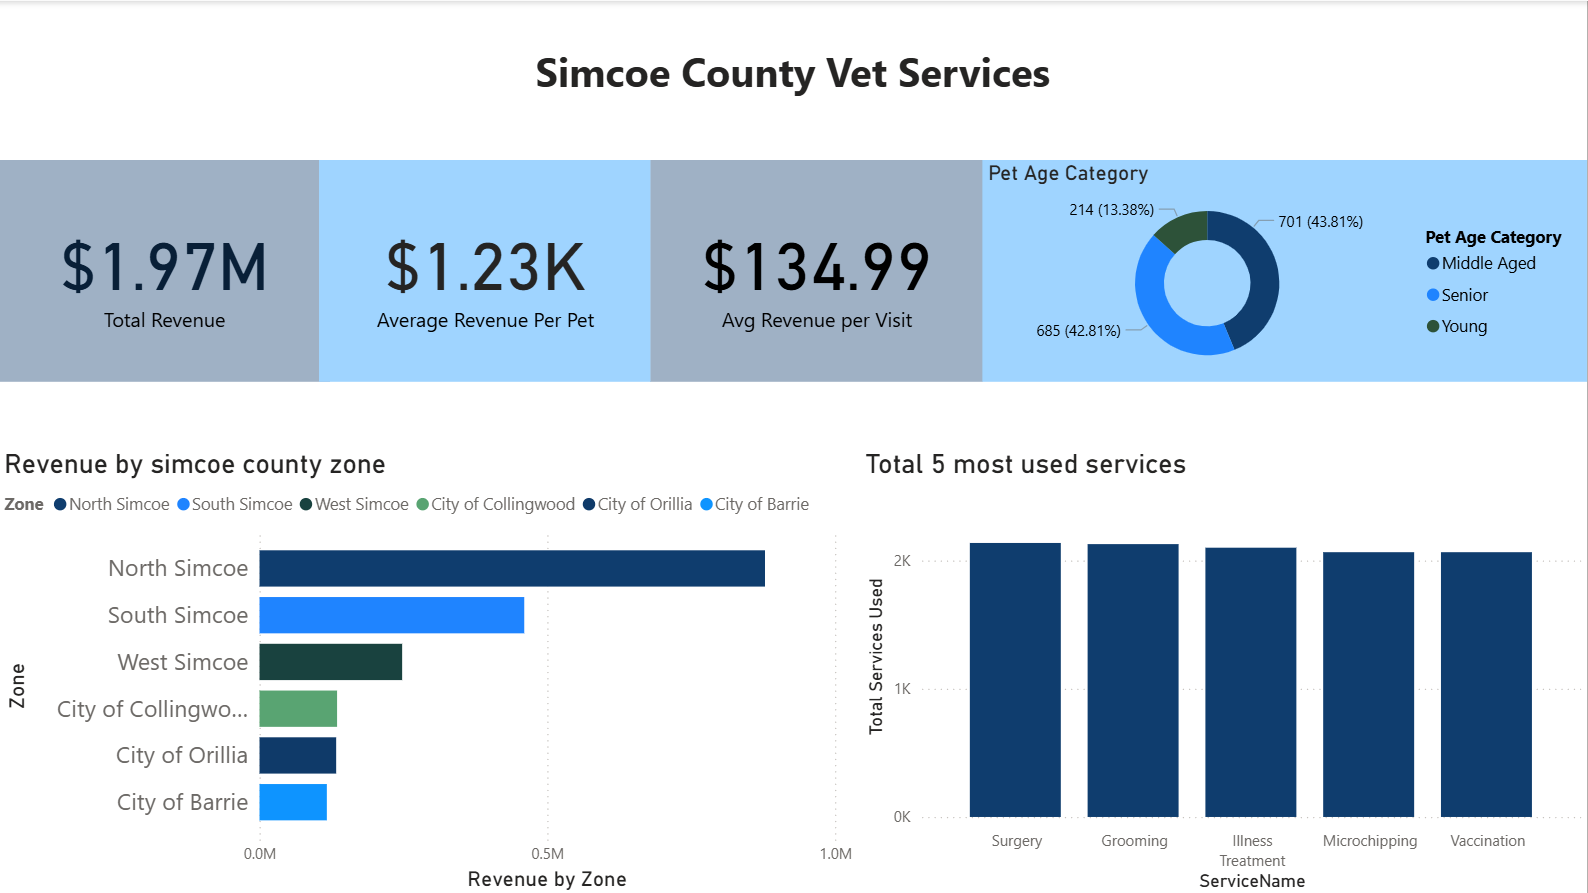

What the dashboard file says about the page in this screenshot:
{"tool":"powerbi","page":{"name":"Page 1","canvas":[1280,720],"ordinal":0},"visuals":[{"type":"donutChart","title":"Pet Age Category","fields":{"Series":["DIM_pet.Pet Age Category"],"Y":["DIM_pet.Total Pets"]},"box":[793.1,127.6,487.1,178.4],"z":0},{"type":"card","fields":{"Values":["FACT_visit.Total Revenue"]},"box":[0,127.6,267.6,178.4],"z":1000},{"type":"barChart","title":"Revenue by simcoe county zone","fields":{"Y":["DIM_pet_owner.Revenue by Zone"],"Series":["ZoneLookup.Zone"],"Category":["ZoneLookup.Zone"]},"box":[0,359.5,693,360.9],"z":2000},{"type":"card","fields":{"Values":["FACT_visit.Average Revenue Per Pet"]},"box":[258,127.6,267.6,178.4],"z":3000},{"type":"columnChart","title":"Total 5 most used services","fields":{"Category":["DIM_service.ServiceName"],"Y":["FACT_visit.Total Services Used"]},"box":[693,359.5,587.3,360.9],"z":5000},{"type":"textbox","box":[0,28.8,1280.3,64.5],"z":6000},{"type":"card","fields":{"Values":["FACT_visit.Avg Revenue per Visit"]},"box":[525.6,127.6,267.6,178.4],"z":8000}]}

Visuals, with their boxes in screenshot pixels (x1, y1, x2, y2), scaled from the page's 1280x720 canvas onto the 1588x893 screenshot:
"Pet Age Category" donutChart: [left=984, top=158, right=1587, bottom=380]
card - FACT_visit.Total Revenue: [left=0, top=158, right=332, bottom=380]
"Revenue by simcoe county zone" barChart: [left=0, top=446, right=860, bottom=892]
card - FACT_visit.Average Revenue Per Pet: [left=320, top=158, right=652, bottom=380]
"Total 5 most used services" columnChart: [left=860, top=446, right=1587, bottom=892]
textbox: [left=0, top=36, right=1587, bottom=116]
card - FACT_visit.Avg Revenue per Visit: [left=652, top=158, right=984, bottom=380]
